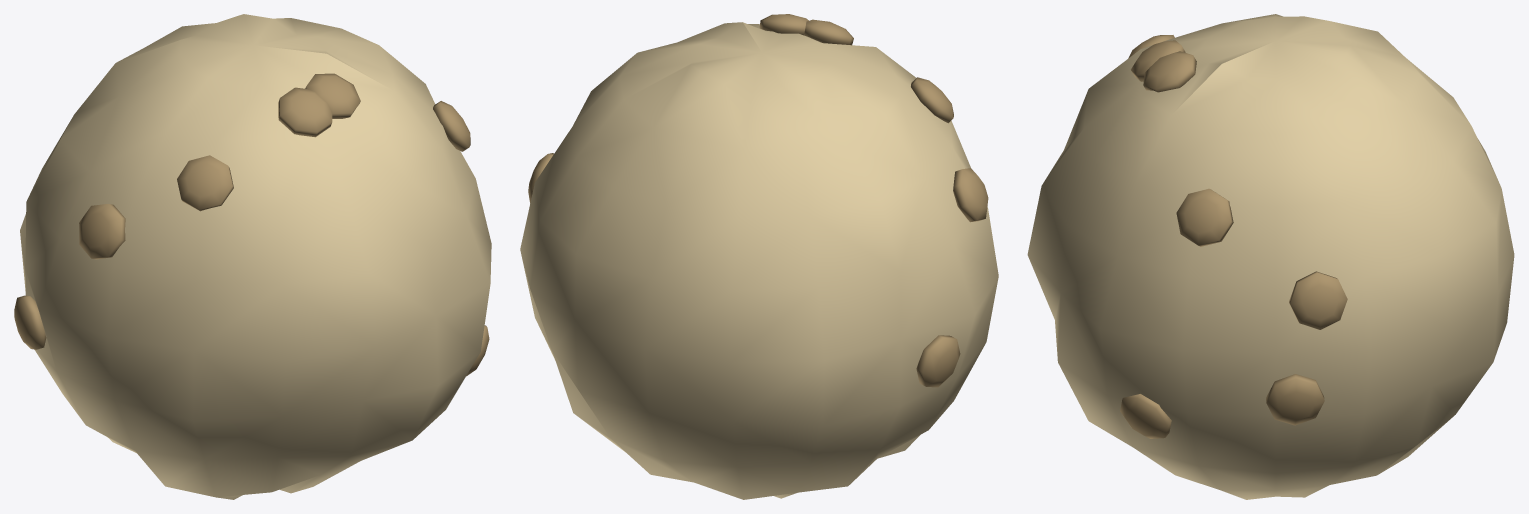
The model's file is Puffball.fbx.
3 views of the same model, side by side, from view 1: azimuth 30°, elevation 25°; view 2: azimuth 150°, elevation 25°; view 3: azimuth 270°, elevation 25° (orthographic).
Parts seen in each view (by area): view 1: Handle, Spot, Spot.007, Spot.002, Spot.001, Spot.006, Spot.004; view 2: Handle, Spot.006, Spot.007, Spot, Spot.002, Spot.001; view 3: Handle, Spot.003, Spot.004, Spot.008, Spot.001, Spot.005, Spot.002.
Part boxes in pixels (x1,y1,x2,y2): Handle: (20, 14, 491, 499); Spot: (177, 155, 233, 211); Spot.007: (79, 204, 125, 259); Spot.002: (278, 87, 332, 137); Spot.001: (305, 73, 360, 118); Spot.006: (14, 295, 46, 349); Spot.004: (433, 101, 470, 151); Handle: (520, 22, 998, 499); Spot.006: (916, 335, 960, 387); Spot.007: (953, 168, 988, 222); Spot: (911, 77, 953, 123); Spot.002: (804, 19, 853, 45); Spot.001: (759, 14, 808, 35); Handle: (1027, 14, 1514, 499); Spot.003: (1289, 271, 1347, 329); Spot.004: (1176, 188, 1233, 246); Spot.008: (1266, 374, 1324, 425); Spot.001: (1143, 51, 1196, 92); Spot.005: (1120, 394, 1171, 438); Spot.002: (1131, 40, 1185, 81).
Size of the model in its own units: 1.14 by 1.08 by 1.11.
